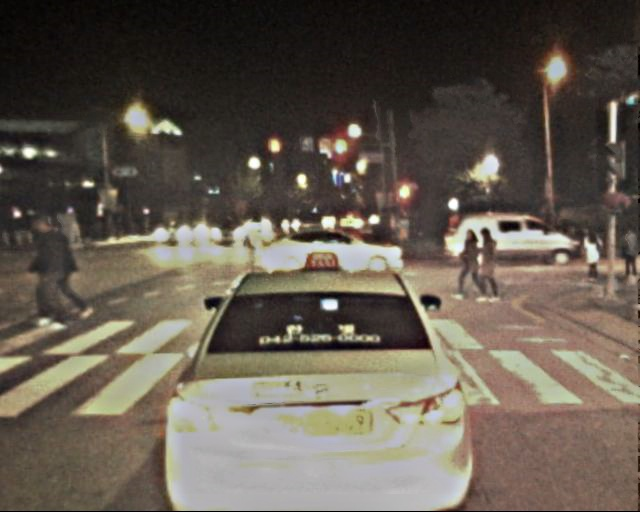person: (29, 210, 85, 323), (473, 228, 503, 301), (456, 229, 484, 298), (580, 229, 602, 283), (619, 224, 640, 279)
